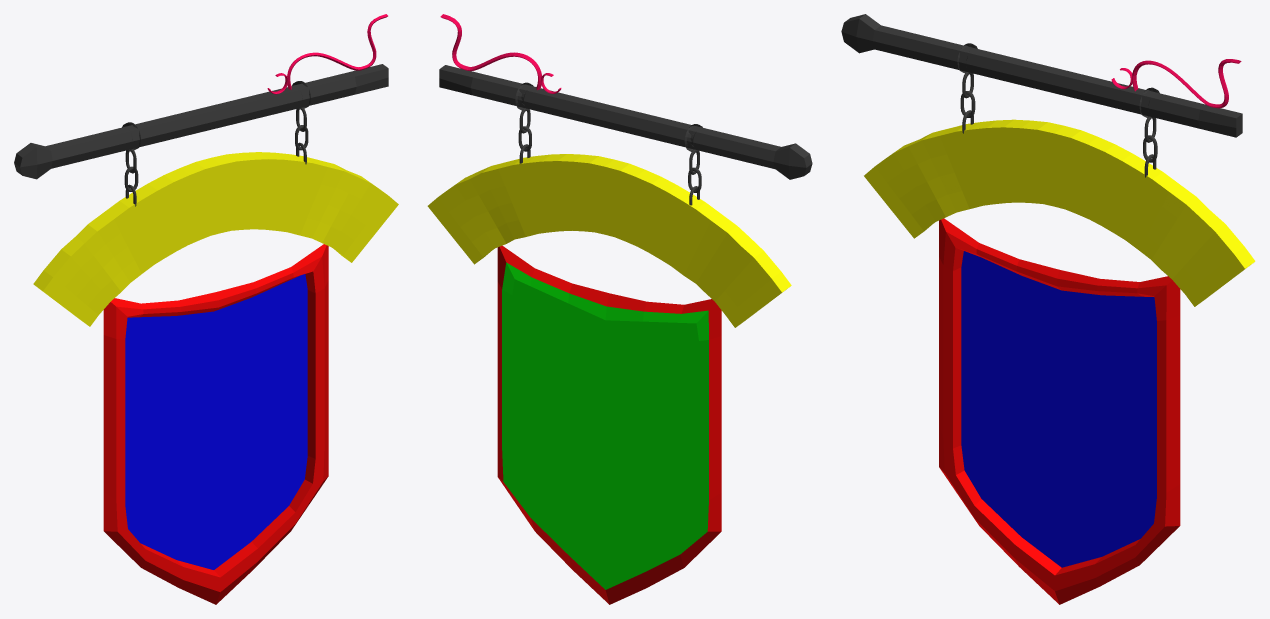
File: Forest Inn Sign.fbx
3 views of the same model, side by side, from view 1: azimuth 30°, elevation 25°; view 2: azimuth 150°, elevation 25°; view 3: azimuth 330°, elevation 25° (orthographic). The views are drawn at different scales.
Visible parts, largest first — view 1: Shield_front, Wood, Shield_frame, Pole, Chain, Decor_big.001; view 2: Shield_back, Wood, Shield_frame, Pole, Chain, Decor_big.001; view 3: Shield_front, Wood, Shield_frame, Pole, Chain, Decor_big.001.
Part boxes in pixels (bbox=[...]): Shield_front: bbox=[125, 274, 307, 569]; Wood: bbox=[33, 152, 398, 326]; Shield_frame: bbox=[103, 244, 328, 604]; Pole: bbox=[14, 64, 388, 179]; Chain: bbox=[122, 81, 310, 206]; Decor_big.001: bbox=[287, 14, 387, 89]; Shield_back: bbox=[502, 262, 708, 589]; Wood: bbox=[427, 154, 791, 327]; Shield_frame: bbox=[497, 245, 721, 604]; Pole: bbox=[439, 65, 812, 179]; Chain: bbox=[515, 82, 702, 205]; Decor_big.001: bbox=[440, 14, 541, 90]; Shield_front: bbox=[961, 251, 1156, 567]; Wood: bbox=[864, 119, 1255, 306]; Shield_frame: bbox=[939, 218, 1180, 604]; Pole: bbox=[841, 14, 1242, 137]; Chain: bbox=[957, 43, 1159, 177]; Decor_big.001: bbox=[1132, 59, 1241, 108].
Bounding box in the file's own units: 336 × 468 × 22.29.
